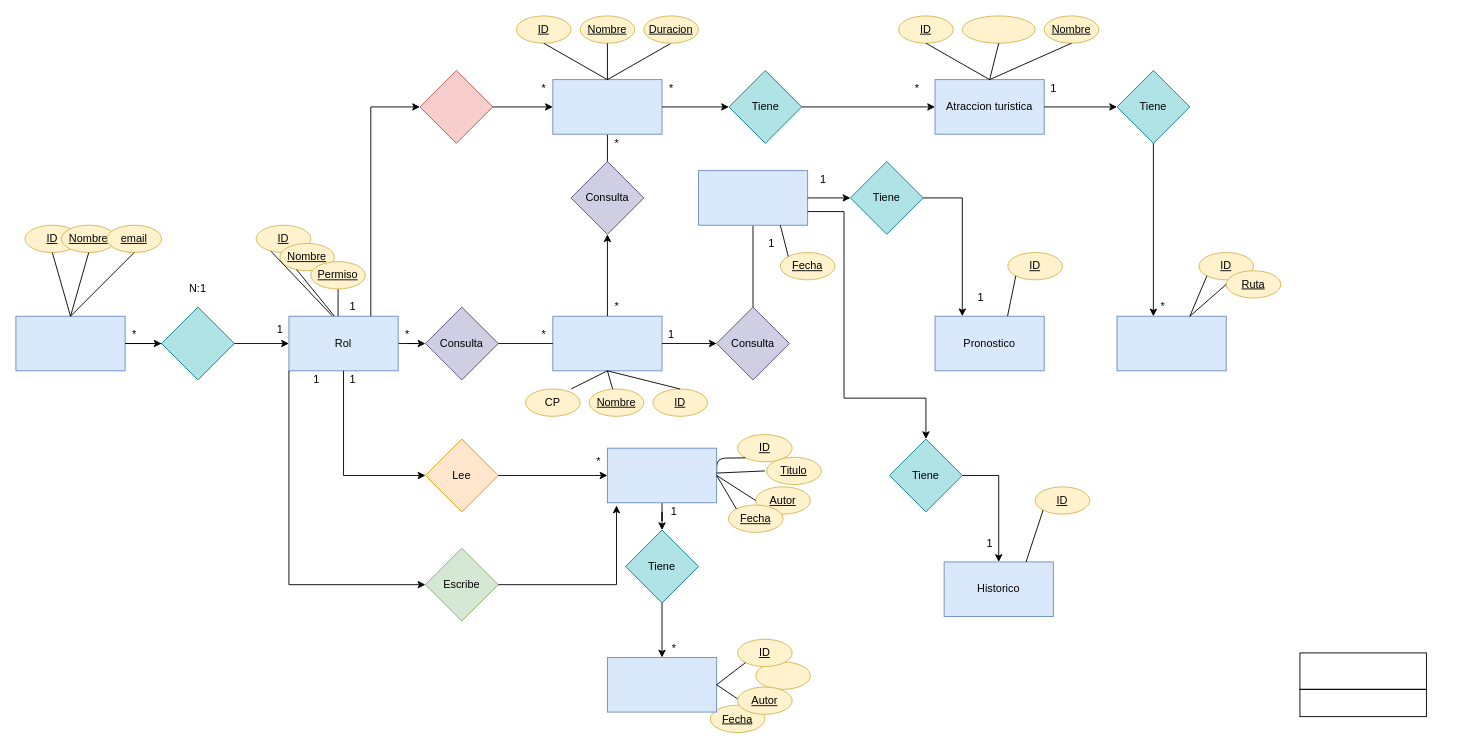
This 1461x749 diagram has some shape labels left out. Each missing label, with the centre of its shape:
"Actor" belongs at (70,343).
"Clima" belongs at (753,197).
"Comentarios" belongs at (662,684).
"DER GRUPO 1B VIAJES 365º" belongs at (1362,670).
"Edita" belongs at (456,106).
"Fotos" belongs at (1171,343).
"Localidad" belongs at (607,343).
"Mensaje" belongs at (782,675).
"Puntaje" belongs at (998,29).
"Recorrido turistico" belongs at (607,106).
"Tiene un" belongs at (197,343).
"Tópico" belongs at (662,475).
